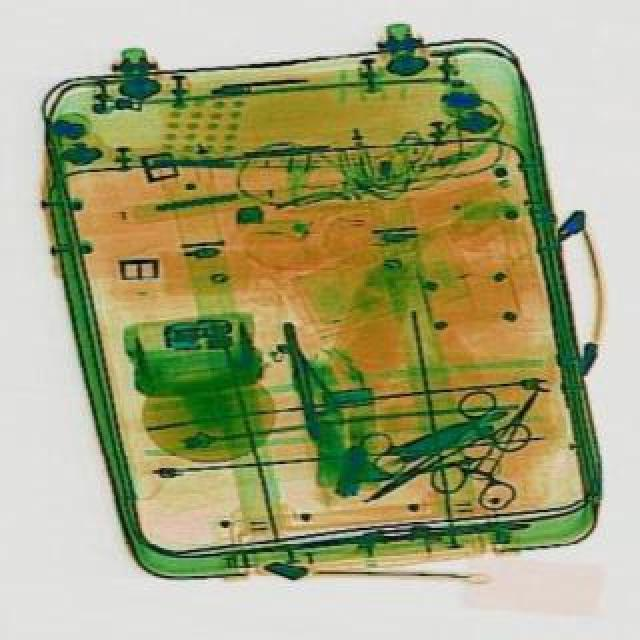pliers: (342, 376, 542, 532), (428, 370, 576, 522), (406, 432, 510, 492), (362, 420, 452, 480)
